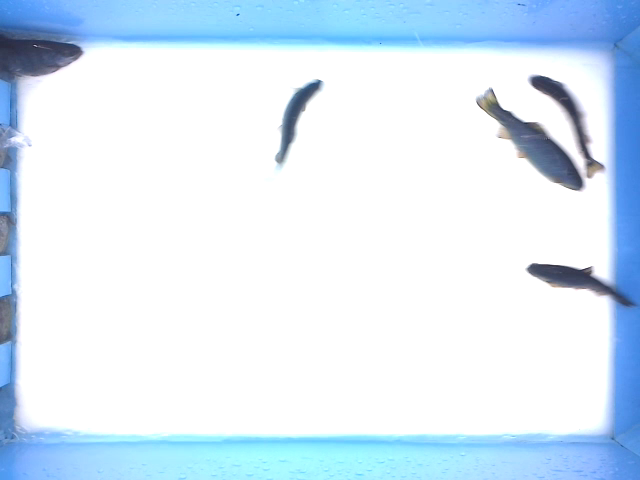fish: (473, 85, 588, 193), (525, 73, 606, 180), (523, 258, 640, 309), (271, 77, 326, 170)
